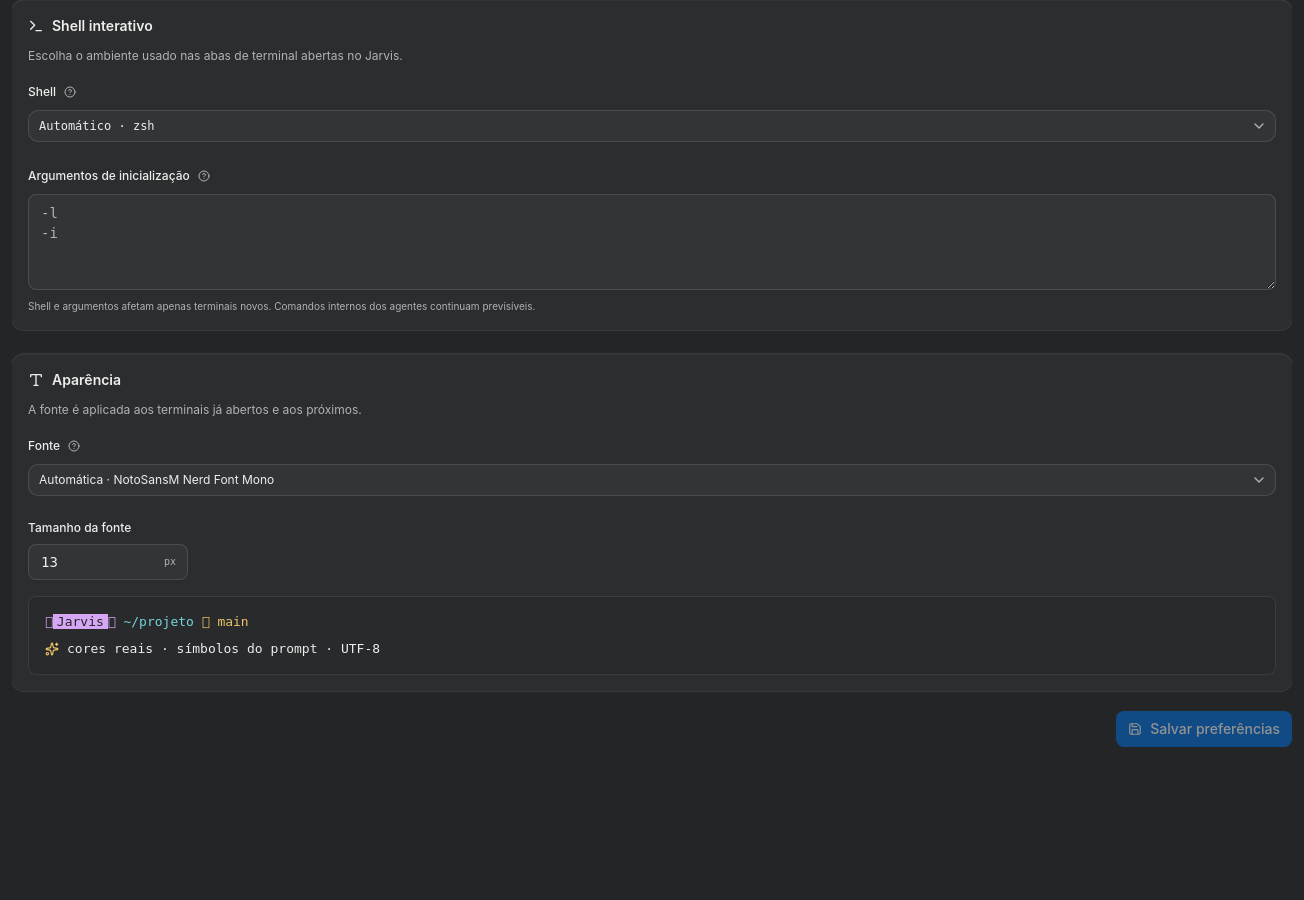
it: terminal preferences › shows which installed font automatic mode will use and warns about an unknown custom family
Click the dropdown named "Fonte do terminal" at coordinates (157, 480), box [28,464,1276,496]
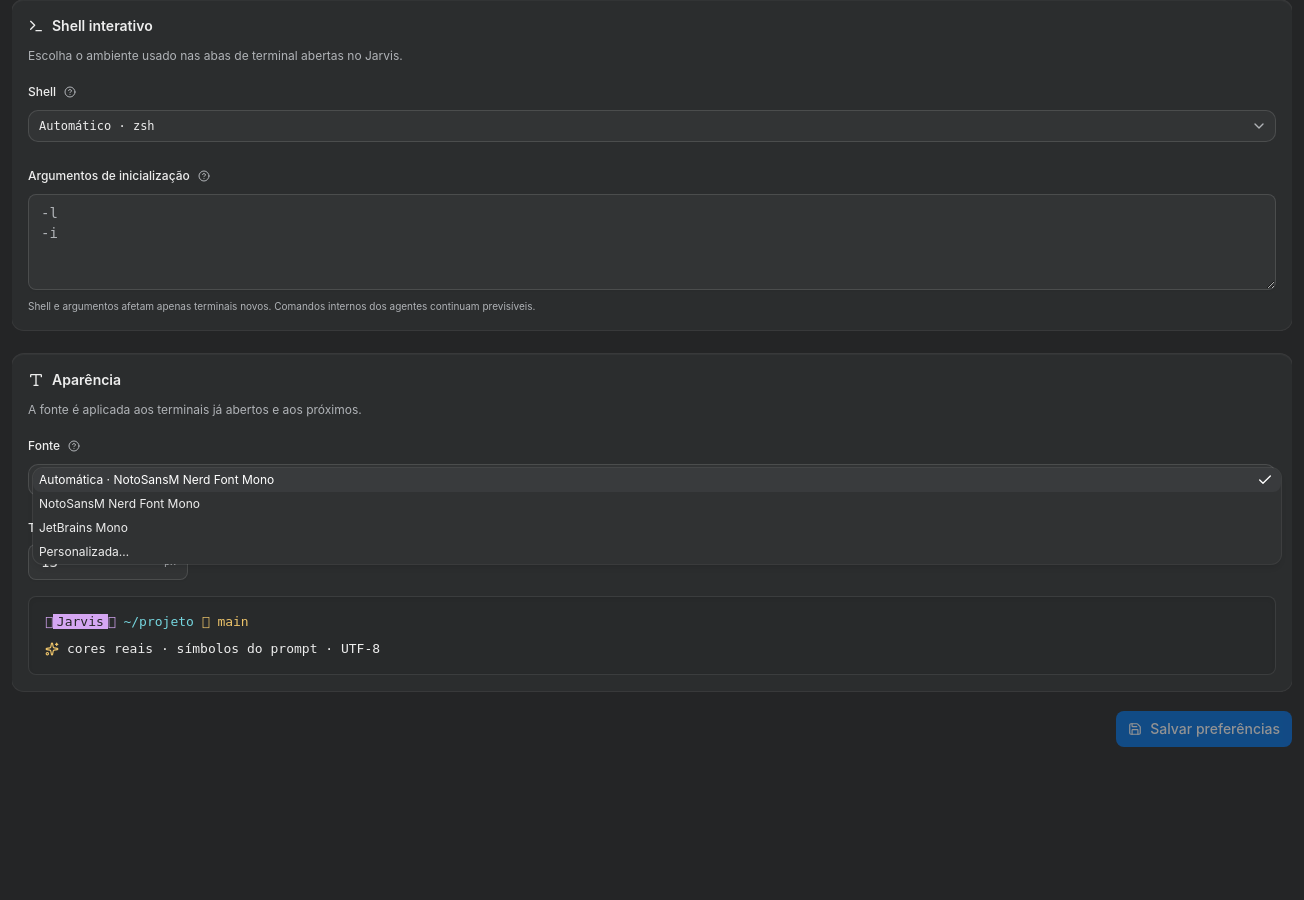
Expected: the option "NotoSansM Nerd Font Mono" is shown, [39,496,200,511]
Click the option "Personalizada…" at coordinates (84, 552), box [39,544,129,559]
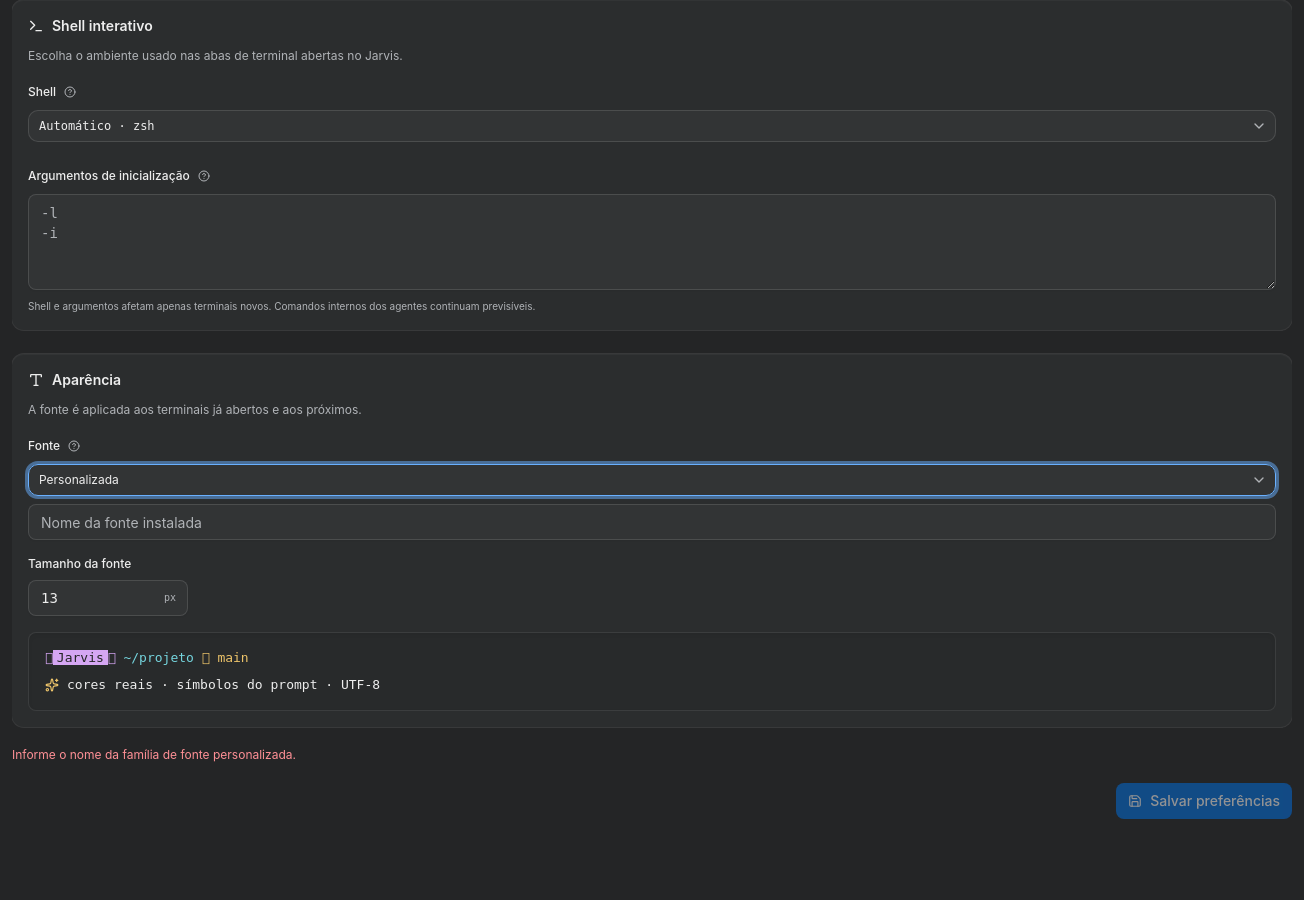
Type "Fonte Inexistente" into the field named "Família de fonte personalizada" at coordinates (652, 522), box [28,504,1276,540]
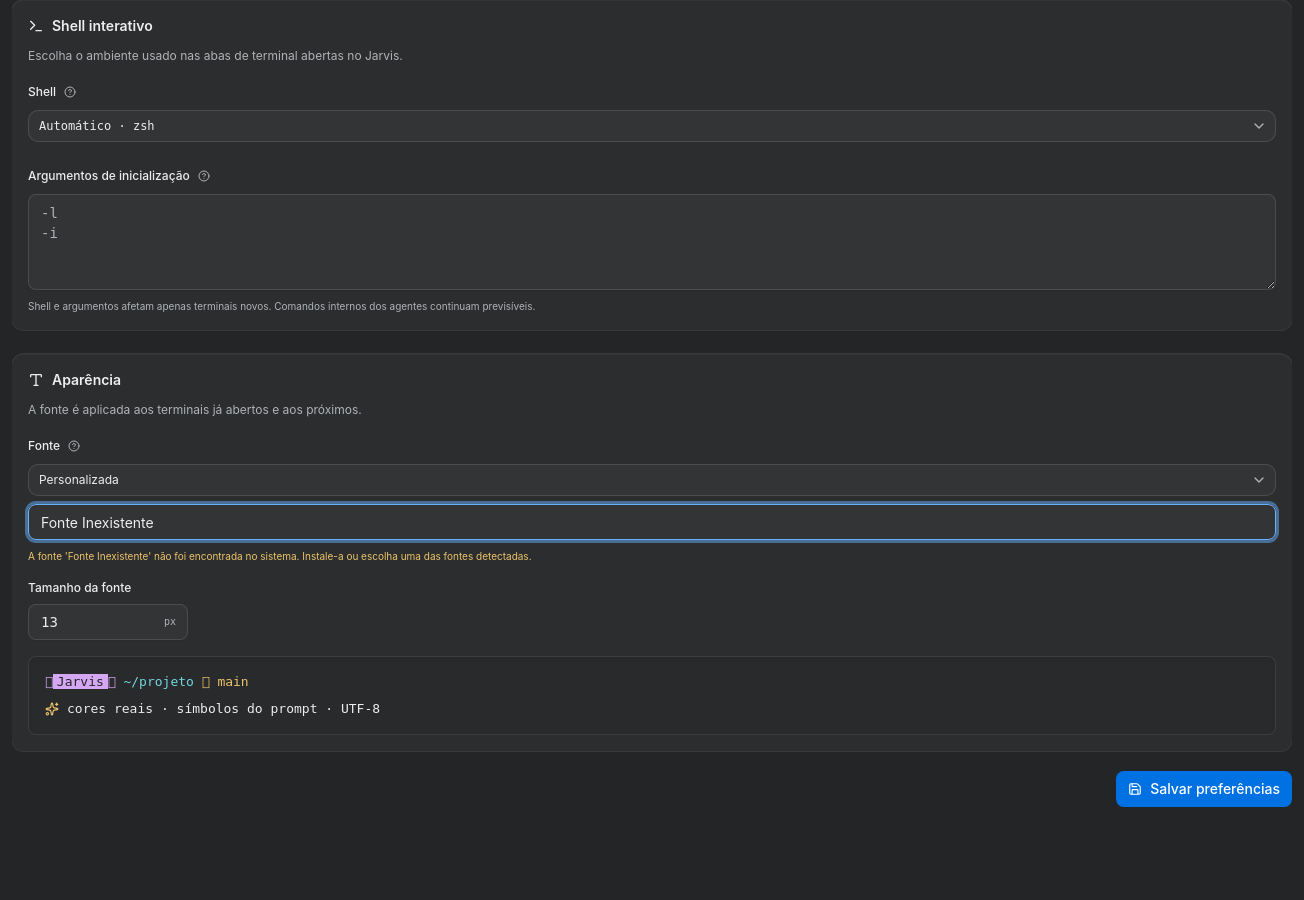
Expected: the message shows "não foi encontrada no sistema", [28,550,532,562]
